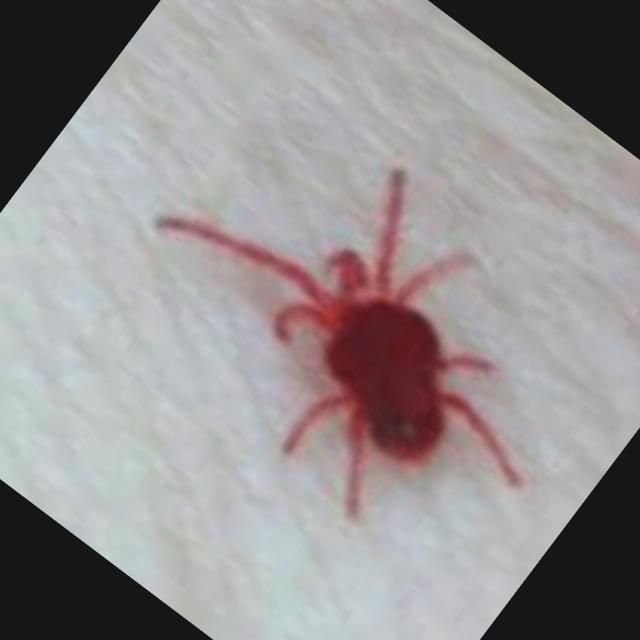spider mite: (62, 75, 618, 628)
